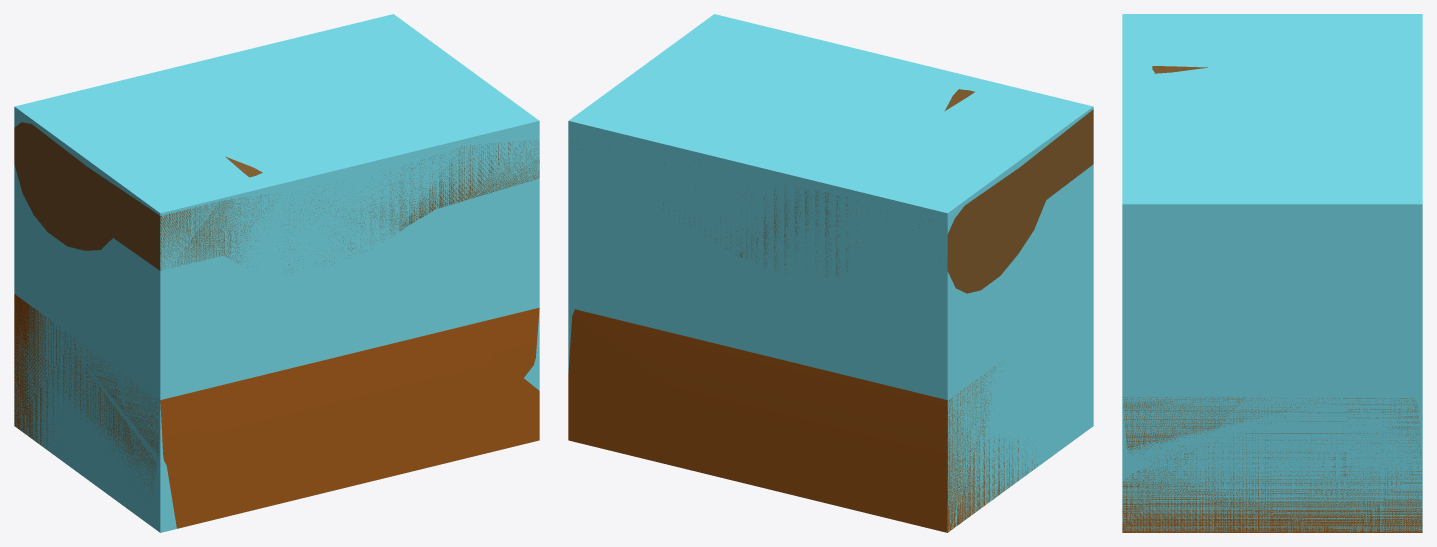
File: PBOX23_Mud_01.FBX
3 views of the same model, side by side, from view 1: azimuth 30°, elevation 25°; view 2: azimuth 150°, elevation 25°; view 3: azimuth 270°, elevation 25° (orthographic). The views are drawn at different scales.
Parts seen in each view (by area): view 1: PBOX23_Mud_01, PBOX23_SUB_TAB_MUD_003, PBOX23_SUB_Mud_002; view 2: PBOX23_Mud_01, PBOX23_SUB_TAB_MUD_003, PBOX23_SUB_Mud_002; view 3: PBOX23_Mud_01, PBOX23_SUB_TAB_MUD_003.
Boxes of the visible parts, x1,y1,x2,y2 form: PBOX23_Mud_01: (14,14,539,532); PBOX23_SUB_TAB_MUD_003: (14,294,539,528); PBOX23_SUB_Mud_002: (14,122,539,272); PBOX23_Mud_01: (568,14,1093,531); PBOX23_SUB_TAB_MUD_003: (568,309,1041,532); PBOX23_SUB_Mud_002: (572,89,1093,293); PBOX23_Mud_01: (1122,14,1422,532); PBOX23_SUB_TAB_MUD_003: (1122,397,1422,532).
Bounding box in the file's own units: 18 × 14.51 × 12.
